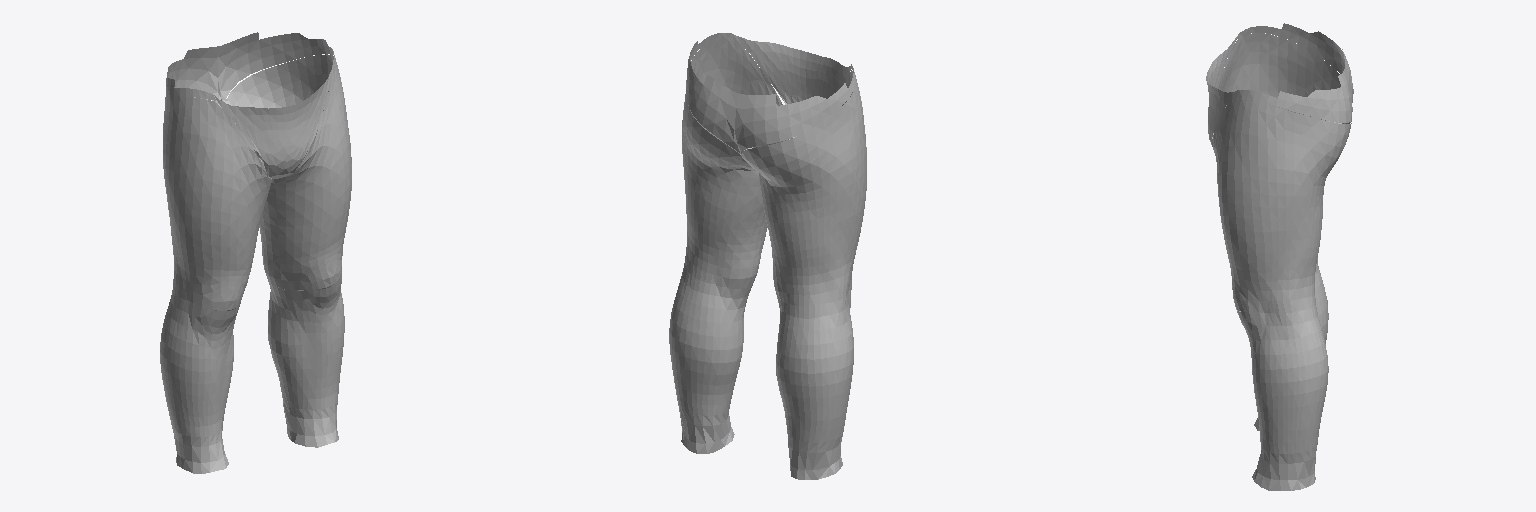
The model's file is manpants.obj.
The picture shows the model from 3 angles: view 1: azimuth 30°, elevation 25°; view 2: azimuth 150°, elevation 25°; view 3: azimuth 270°, elevation 25°; orthographic projection.
Parts seen in each view (by area): view 1: pants_leftCalf.001; view 2: pants_leftCalf.001; view 3: pants_leftCalf.001.
Part boxes in pixels (x1,y1,x2,y2): pants_leftCalf.001: (160,32,351,473); pants_leftCalf.001: (669,33,866,479); pants_leftCalf.001: (1206,23,1353,490).
Size of the model in its own units: 0.4364 by 0.9459 by 0.3177.